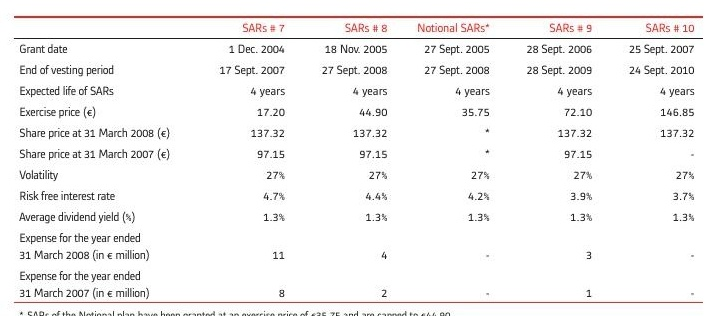table: (0, 0, 724, 316)
